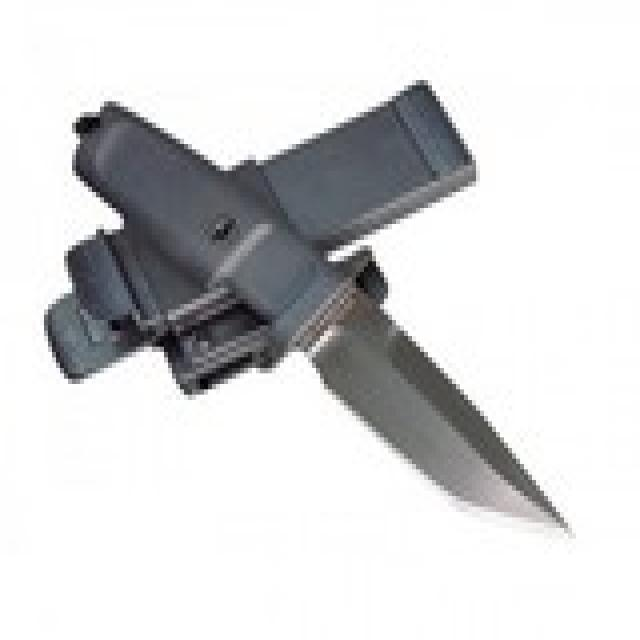Knife: (70, 84, 573, 536)
